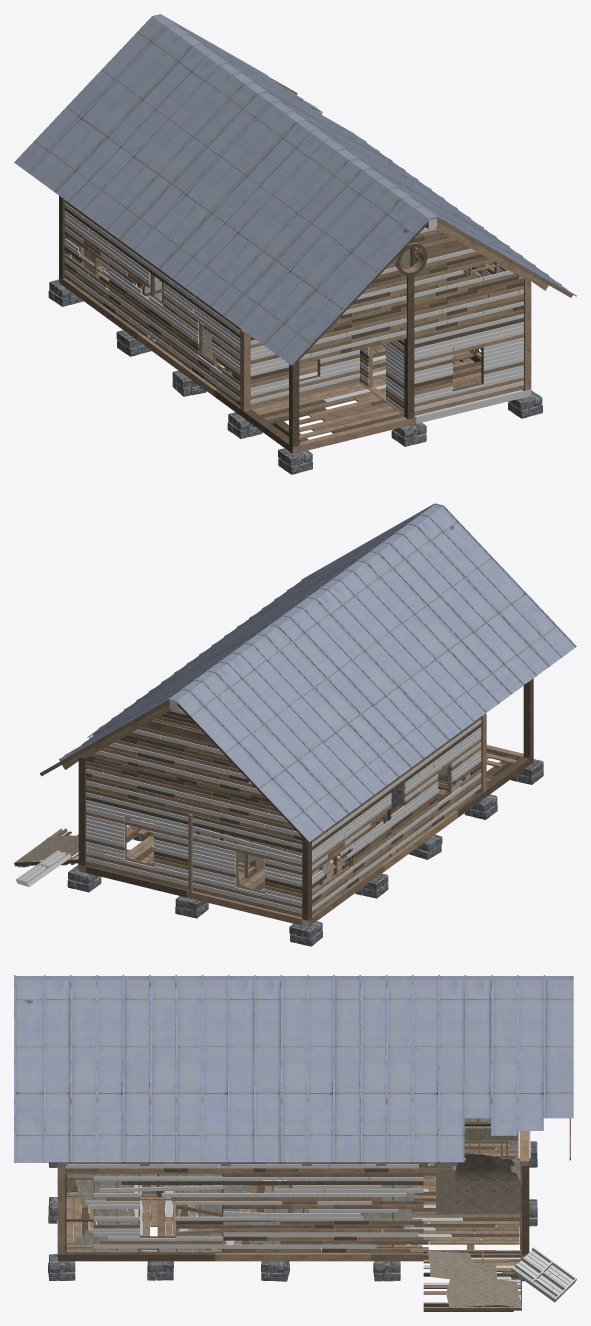
File: CabinA.fbx
3 views of the same model, one above another, from view 1: azimuth 30°, elevation 25°; view 2: azimuth 150°, elevation 25°; view 3: azimuth 270°, elevation 25° (orthographic). The views are drawn at different scales.
Visible parts, largest first — view 1: CabinARoof, WoodRoundWindow1, Wood346, Wood306, Wood347, CabinAFoundationBrick1, Wood344; view 2: CabinARoof, pCube8, Wood346, CabinAFoundationBrick1, Wood347, Wood306, Wood253, Wood344, Wood345; view 3: CabinARoof, CabinAFoundationBrick1, WoodRoundWindow1, Wood306, Wood253, Wood345, Wood344, pCube7, pCube8.
Boxes of the visible parts, <box> form: CabinARoof: <box>14,14,576,365</box>; WoodRoundWindow1: <box>299,227,531,415</box>; Wood346: <box>149,262,414,447</box>; Wood306: <box>59,276,531,453</box>; Wood347: <box>64,200,163,339</box>; CabinAFoundationBrick1: <box>48,247,542,474</box>; Wood344: <box>273,79,572,365</box>; CabinARoof: <box>68,503,576,842</box>; pCube8: <box>78,708,311,920</box>; Wood346: <box>387,678,533,857</box>; CabinAFoundationBrick1: <box>14,759,543,946</box>; Wood347: <box>312,782,400,914</box>; Wood306: <box>301,745,533,927</box>; Wood253: <box>78,821,346,925</box>; Wood344: <box>39,700,307,841</box>; Wood345: <box>196,828,284,878</box>; CabinARoof: <box>14,975,573,1162</box>; CabinAFoundationBrick1: <box>48,1140,576,1311</box>; WoodRoundWindow1: <box>57,1162,288,1254</box>; Wood306: <box>57,1140,506,1261</box>; Wood253: <box>249,1141,526,1261</box>; Wood345: <box>436,1118,521,1213</box>; Wood344: <box>57,1118,570,1171</box>; pCube7: <box>288,1162,455,1252</box>; pCube8: <box>521,1166,529,1254</box>.
Size of the model in its own units: 1641 by 1127 by 2380.
